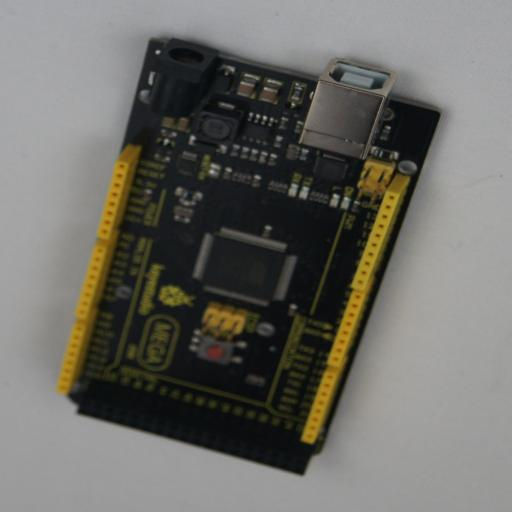Arduino Mega 2560 -Black and Yellow-: (67, 36, 442, 476)
